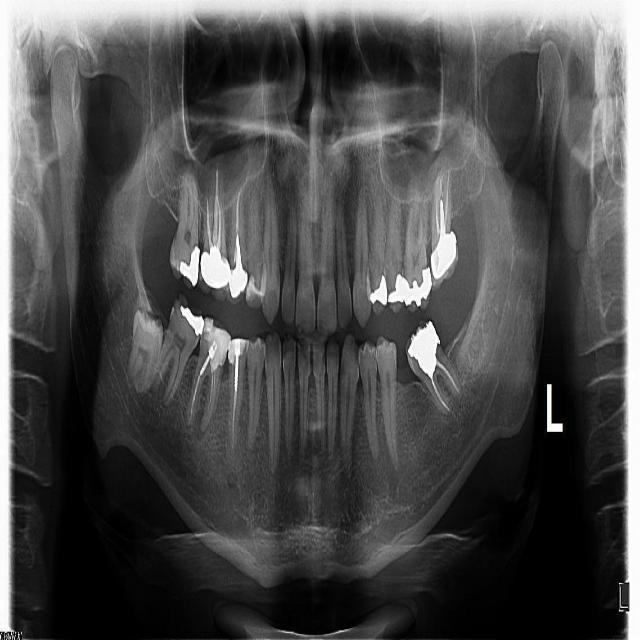71: (437, 197, 453, 260), (231, 232, 248, 291), (198, 339, 220, 376), (233, 338, 240, 391)
74: (432, 359, 464, 395), (428, 375, 450, 413), (186, 375, 202, 424), (212, 165, 219, 247), (203, 197, 213, 248), (443, 173, 452, 229), (230, 389, 237, 449), (432, 199, 442, 238), (216, 196, 222, 248), (235, 188, 241, 239), (209, 373, 214, 412), (438, 178, 442, 194)
NucleOSS Implant: (404, 317, 444, 378), (398, 268, 438, 308), (176, 300, 211, 337), (178, 244, 202, 289), (369, 272, 389, 307), (388, 273, 407, 305), (209, 245, 222, 269)
Sterngold Implant: (169, 295, 189, 314), (372, 350, 377, 364)
Straumann Implant: (198, 313, 237, 372), (238, 275, 265, 308), (224, 336, 247, 366)
Zimmer Implant: (188, 250, 241, 302), (430, 233, 458, 290), (227, 268, 249, 305)
